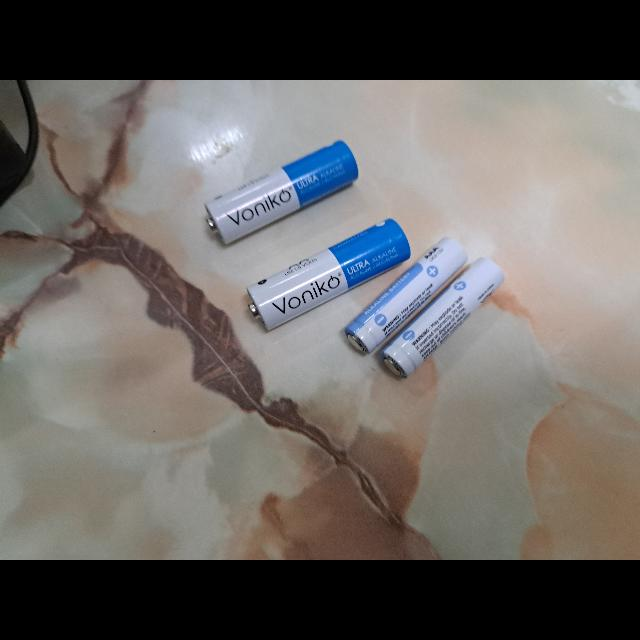bateria: (246, 216, 410, 332), (202, 139, 358, 249), (380, 254, 506, 380), (342, 236, 466, 356)
